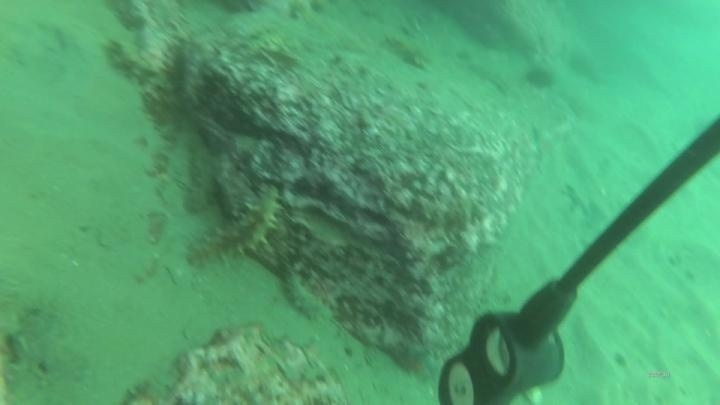echinus: (522, 63, 557, 93)
holothurian: (183, 182, 288, 271), (279, 269, 327, 324), (380, 30, 435, 72)
